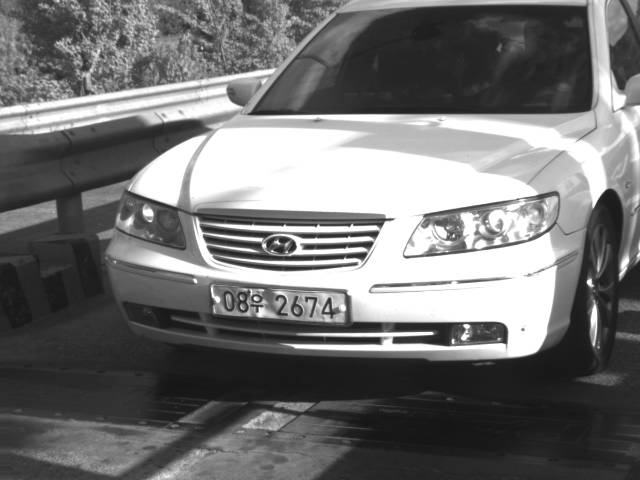car: (101, 1, 640, 379)
plate: (209, 281, 350, 326)
